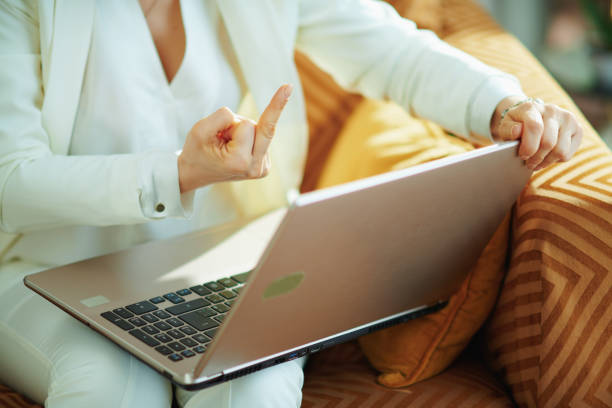insulting_gesture: (185, 81, 289, 184)
